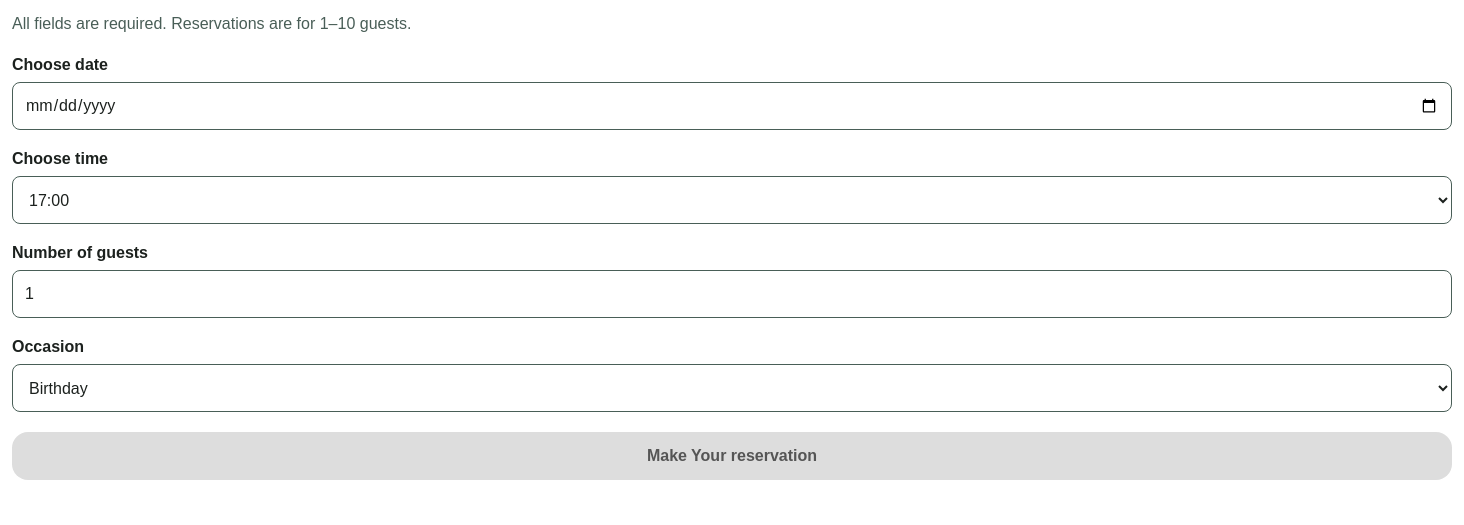
Test: blocks submission for invalid guest count "0"
Later steps or results of the test are not shown.
Type "2026-12-12" into the date field labelled "Choose date". click: x=732, y=106
box: [12, 82, 1452, 130]
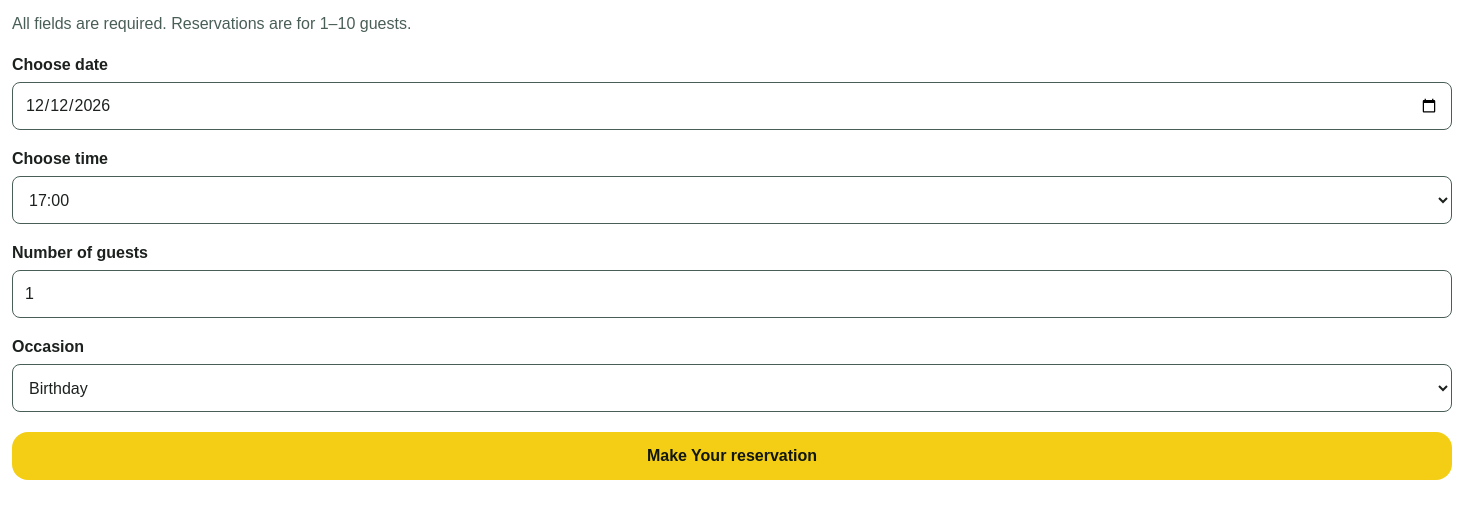
Type "0" into the number field labelled "Number of guests". click: x=732, y=294
box: [12, 270, 1452, 318]
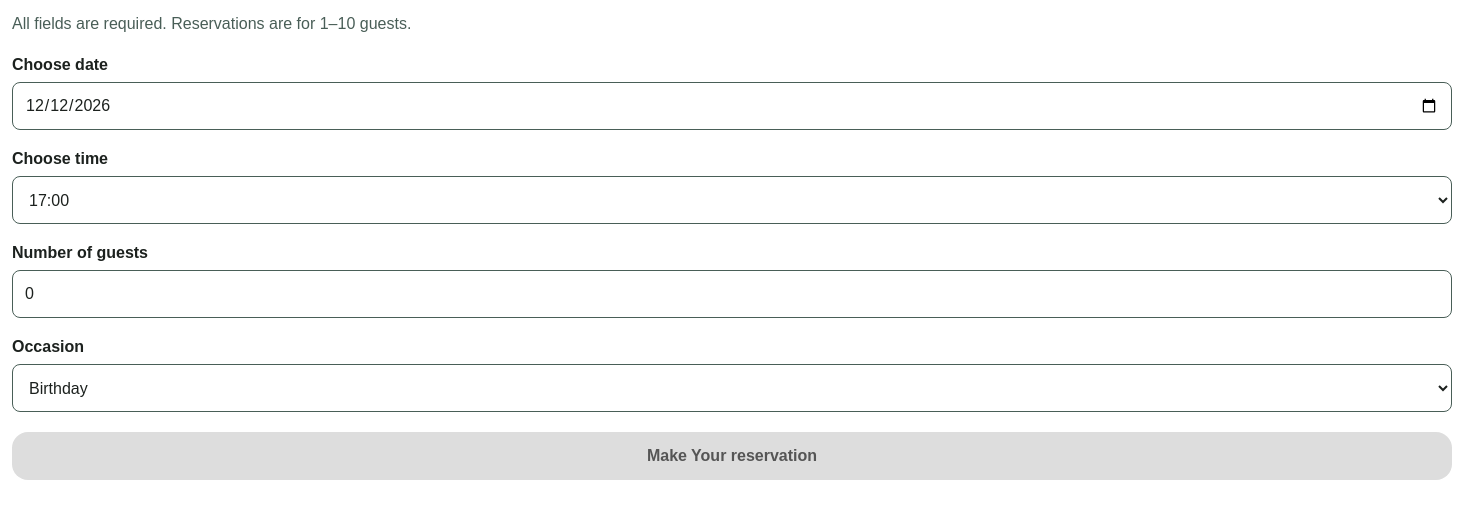
Leave the number field labelled "Number of guests", box [12, 270, 1452, 318]
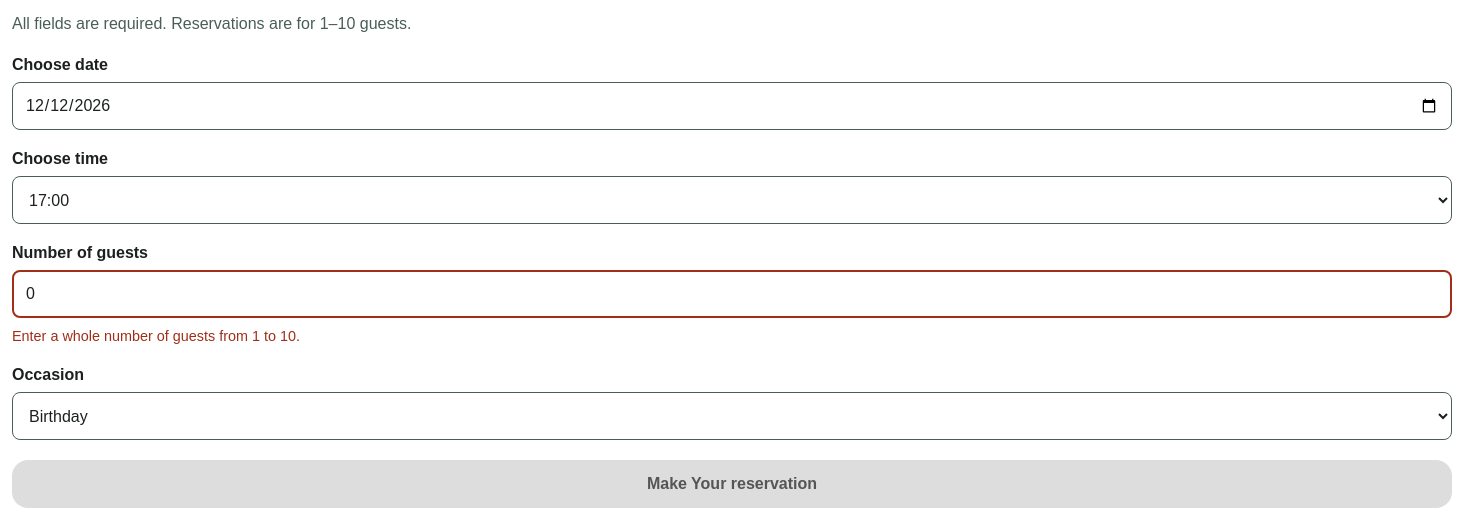
Now the button "Make Your reservation" is disabled, box [12, 460, 1452, 508]
